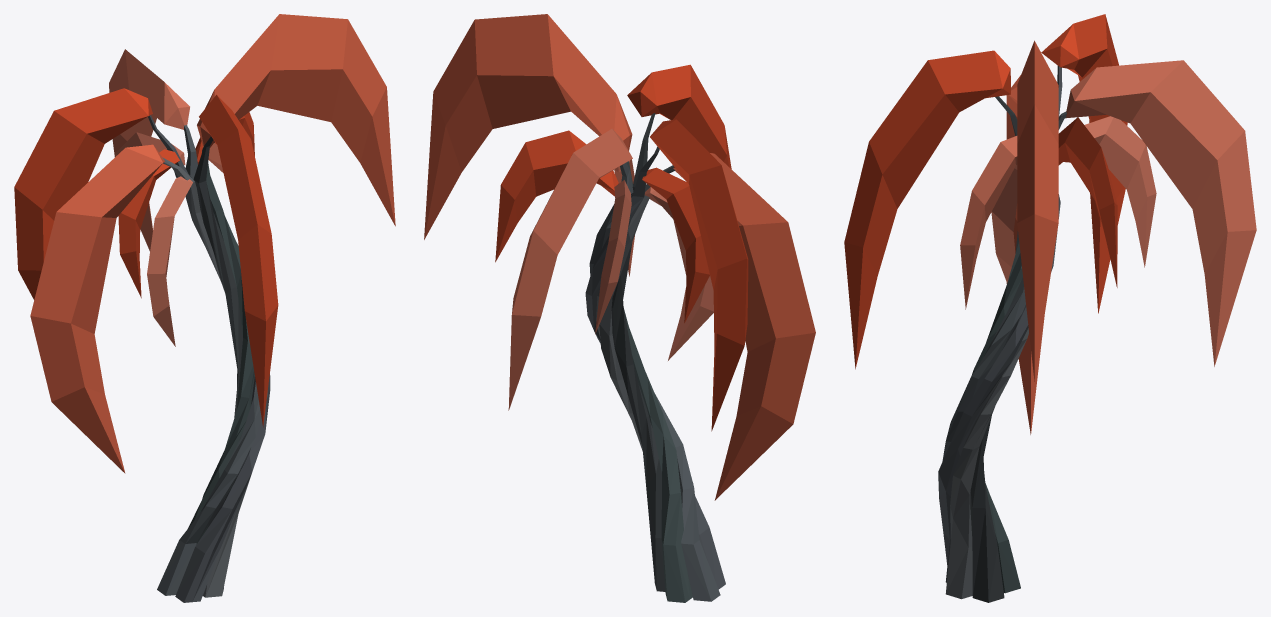
Rendered from TP_Tree01.fbx.
The picture shows the model from 3 angles, left to right: view 1: azimuth 30°, elevation 25°; view 2: azimuth 150°, elevation 25°; view 3: azimuth 270°, elevation 25°; orthographic projection. The views are drawn at different scales.
Visible parts, largest first — view 1: TP_Tree01; view 2: TP_Tree01; view 3: TP_Tree01.
Boxes of the visible parts, x1,y1,x2,y2 form: TP_Tree01: (14, 14, 395, 602); TP_Tree01: (424, 14, 815, 602); TP_Tree01: (844, 14, 1256, 602).
Bounding box in the file's own units: 273 × 378 × 232.
1 material, 1 textured.
